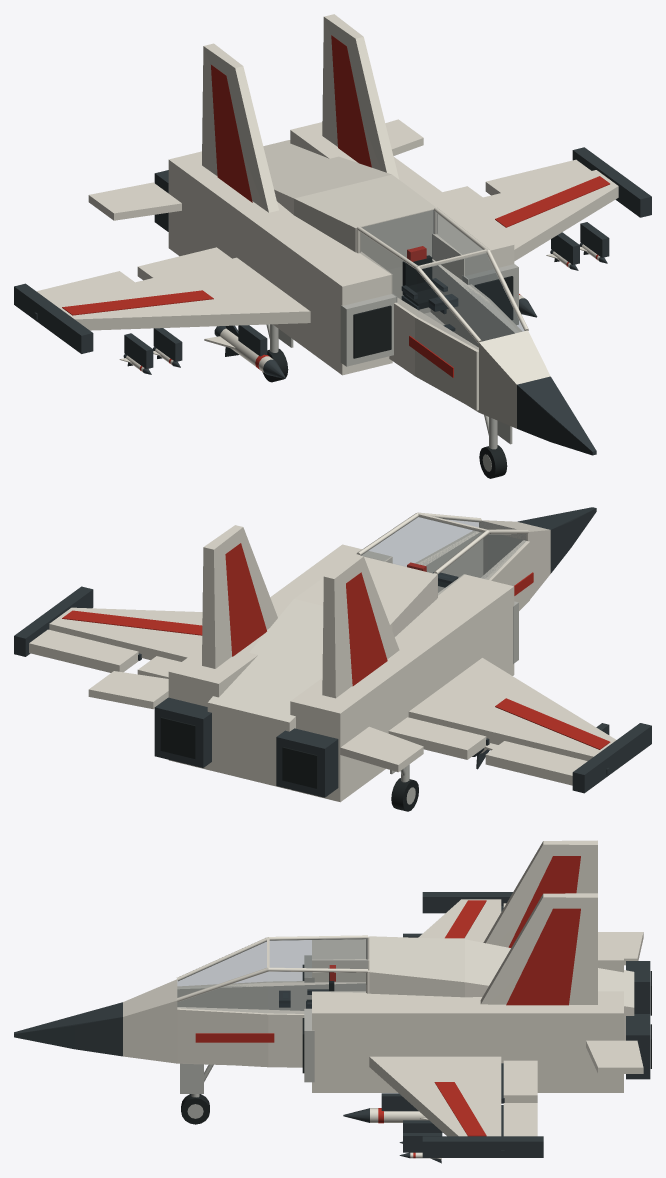
3 views of the same model, one above another, from view 1: azimuth 30°, elevation 25°; view 2: azimuth 150°, elevation 25°; view 3: azimuth 270°, elevation 25° (orthographic). The views are drawn at different scales.
Visible parts, largest first — view 1: jet-b-fleet-armor, jet-b-fleet-glass, jet-b-fleet-machine, jet-b-fleet-red, jet-b-fleet-edge, jet-b-fleet-rubber, elevator-left-fleet-armor, crew-chair-pilot-painted, aileron-right-painted, flap-left-painted, aileron-left-painted, store-left-large-painted (+2 smaller); view 2: jet-b-fleet-armor, jet-b-fleet-machine, jet-b-fleet-red, jet-b-fleet-glass, aileron-right-painted, aileron-left-painted, jet-b-fleet-rubber, flap-left-painted, elevator-left-fleet-armor, elevator-right-fleet-armor, gear-wheel-left-0-0-painted, flap-right-painted; view 3: jet-b-fleet-armor, jet-b-fleet-machine, jet-b-fleet-glass, jet-b-fleet-red, elevator-right-fleet-armor, flap-right-painted, aileron-right-painted, jet-b-fleet-edge, store-right-large-painted, landing-gear-nose-painted, gear-wheel-nose-0-0-painted, elevator-left-fleet-armor (+1 smaller).
Part boxes in pixels (box(x1,y1,x2,y2)): jet-b-fleet-armor: box(52, 14, 618, 428); jet-b-fleet-glass: box(360, 210, 524, 349); jet-b-fleet-machine: box(14, 147, 651, 455); jet-b-fleet-red: box(62, 35, 609, 377); jet-b-fleet-edge: box(340, 264, 518, 366); jet-b-fleet-rubber: box(353, 276, 513, 358); elevator-left-fleet-armor: box(88, 182, 181, 220); crew-chair-pilot-painted: box(401, 246, 458, 331); aileron-right-painted: box(485, 159, 591, 195); flap-left-painted: box(137, 247, 231, 280); aileron-left-painted: box(34, 271, 134, 319); store-left-large-painted: box(204, 325, 285, 378); jet-b-fleet-armor: box(49, 512, 616, 802); jet-b-fleet-machine: box(14, 507, 651, 797); jet-b-fleet-red: box(62, 543, 610, 749); jet-b-fleet-glass: box(361, 516, 526, 594); aileron-right-painted: box(29, 629, 141, 672); aileron-left-painted: box(485, 741, 609, 785); jet-b-fleet-rubber: box(160, 717, 317, 788); flap-left-painted: box(388, 717, 489, 759); elevator-left-fleet-armor: box(340, 726, 423, 772); elevator-right-fleet-armor: box(88, 671, 168, 709); gear-wheel-left-0-0-painted: box(391, 778, 418, 811); flap-right-painted: box(137, 656, 181, 678); jet-b-fleet-armor: box(123, 840, 634, 1136); jet-b-fleet-machine: box(14, 892, 650, 1157); jet-b-fleet-glass: box(177, 938, 367, 1013); jet-b-fleet-red: box(195, 856, 580, 1136); elevator-right-fleet-armor: box(586, 1040, 643, 1073); flap-right-painted: box(501, 1060, 537, 1103); aileron-right-painted: box(501, 1103, 537, 1155); jet-b-fleet-edge: box(304, 955, 314, 1082); store-right-large-painted: box(343, 1108, 442, 1132); landing-gear-nose-painted: box(180, 1063, 213, 1097); gear-wheel-nose-0-0-painted: box(181, 1094, 209, 1124); elevator-left-fleet-armor: box(598, 932, 643, 965).
Size of the model in its own units: 64.6 by 30.39 by 69.47.
